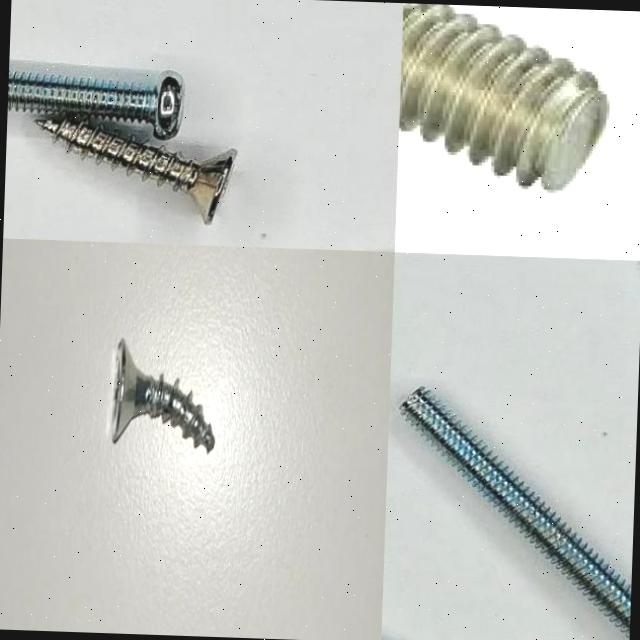Screw: (401, 387, 631, 636), (399, 3, 609, 193), (35, 119, 235, 223), (7, 60, 182, 139), (111, 338, 214, 452)
